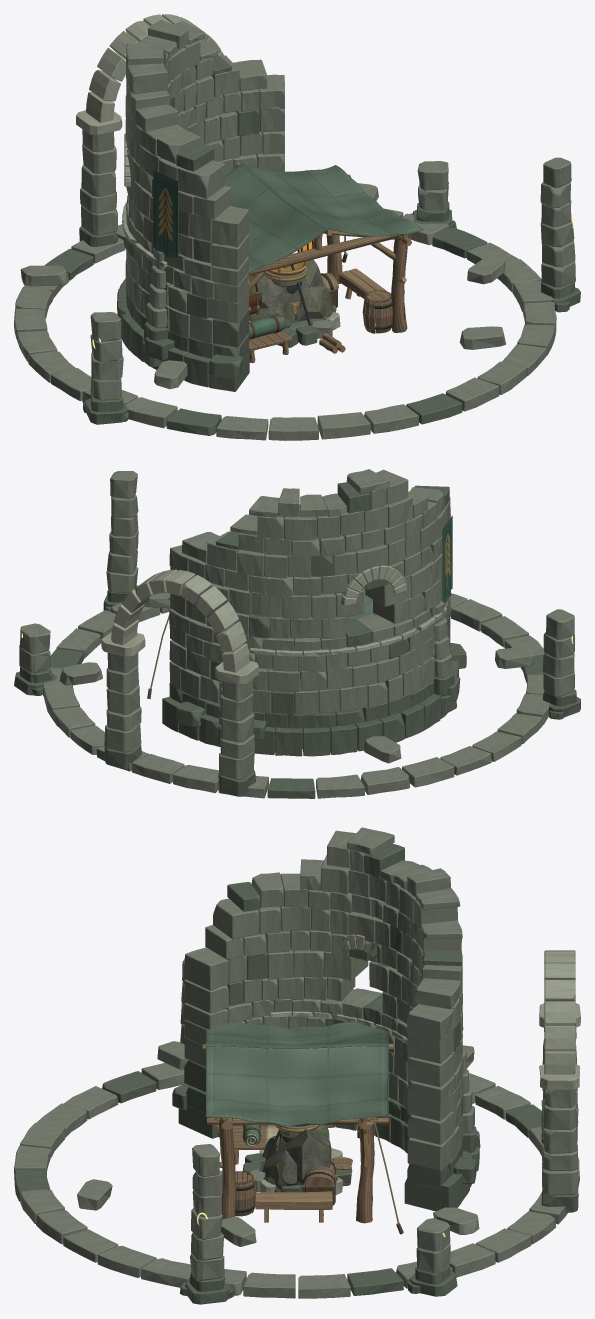
The model's file is camp-standard-r10.glb.
3 views of the same model, one above another, from view 1: azimuth 30°, elevation 25°; view 2: azimuth 150°, elevation 25°; view 3: azimuth 270°, elevation 25° (orthographic). The views are drawn at different scales.
Parts seen in each view (by area): view 1: watchtower_r8_mesh, moonSanctum_r8_mesh, campShelter_r10_mesh, hearth_r8_mesh, boulder_r10_mesh, boulderLow_r10_mesh, relicStand_r8_mesh; view 2: watchtower_r8_mesh, moonSanctum_r8_mesh, campShelter_r10_mesh; view 3: watchtower_r8_mesh, moonSanctum_r8_mesh, campShelter_r10_mesh, hearth_r8_mesh, boulderLow_r10_mesh, boulder_r10_mesh.
Part boxes in pixels (x1,y1,x2,y2): watchtower_r8_mesh: [20, 20, 505, 391]; moonSanctum_r8_mesh: [14, 14, 580, 440]; campShelter_r10_mesh: [224, 162, 423, 362]; hearth_r8_mesh: [276, 264, 386, 347]; boulder_r10_mesh: [249, 274, 333, 329]; boulderLow_r10_mesh: [249, 259, 332, 328]; relicStand_r8_mesh: [264, 253, 311, 331]; watchtower_r8_mesh: [59, 469, 534, 763]; moonSanctum_r8_mesh: [14, 471, 580, 798]; campShelter_r10_mesh: [147, 589, 375, 699]; watchtower_r8_mesh: [77, 827, 480, 1246]; moonSanctum_r8_mesh: [14, 950, 580, 1304]; campShelter_r10_mesh: [202, 1022, 403, 1234]; hearth_r8_mesh: [242, 1124, 352, 1222]; boulderLow_r10_mesh: [263, 1128, 331, 1192]; boulder_r10_mesh: [262, 1124, 329, 1188].
Size of the model in its own units: 14.11 by 7.64 by 13.47.
Materials: 6 (6 with a texture image).
